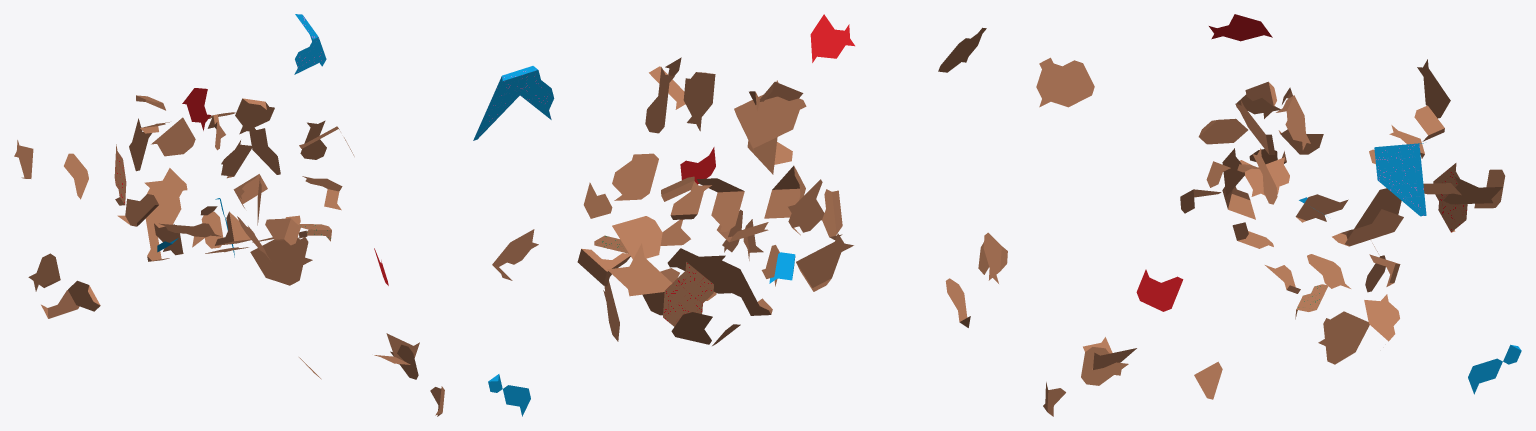
The model's file is explode_000134.obj.
The picture shows the model from 3 angles, left to right: view 1: azimuth 30°, elevation 25°; view 2: azimuth 150°, elevation 25°; view 3: azimuth 270°, elevation 25°; orthographic projection. The views are drawn at different scales.
Visible parts, largest first — view 1: Cube_Cube.001; view 2: Cube_Cube.001; view 3: Cube_Cube.001.
Part boxes in pixels (box(x1,y1,x2,y2)): Cube_Cube.001: box(14, 14, 444, 416); Cube_Cube.001: box(473, 14, 1007, 416); Cube_Cube.001: box(1036, 14, 1521, 416).
Size of the model in its own units: 6.21 by 5.05 by 6.7.
